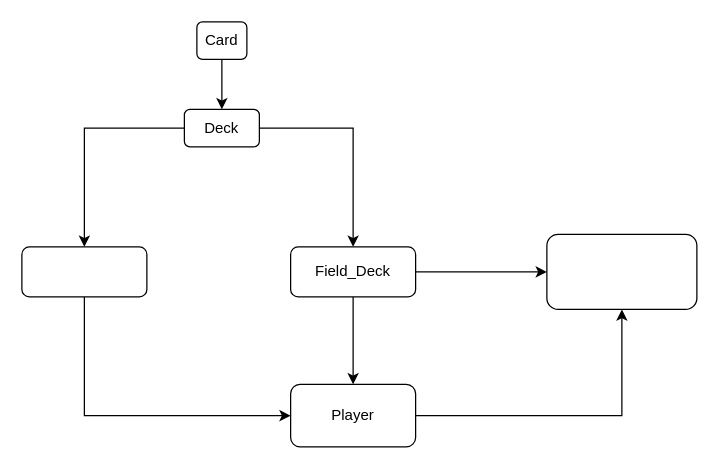
Image size: 719x469. Some labels were removed from this diagram. Each missing label, with the box of its shape:
GameLogic: (546, 233, 697, 309)
Reserve_Deck: (21, 246, 147, 297)
